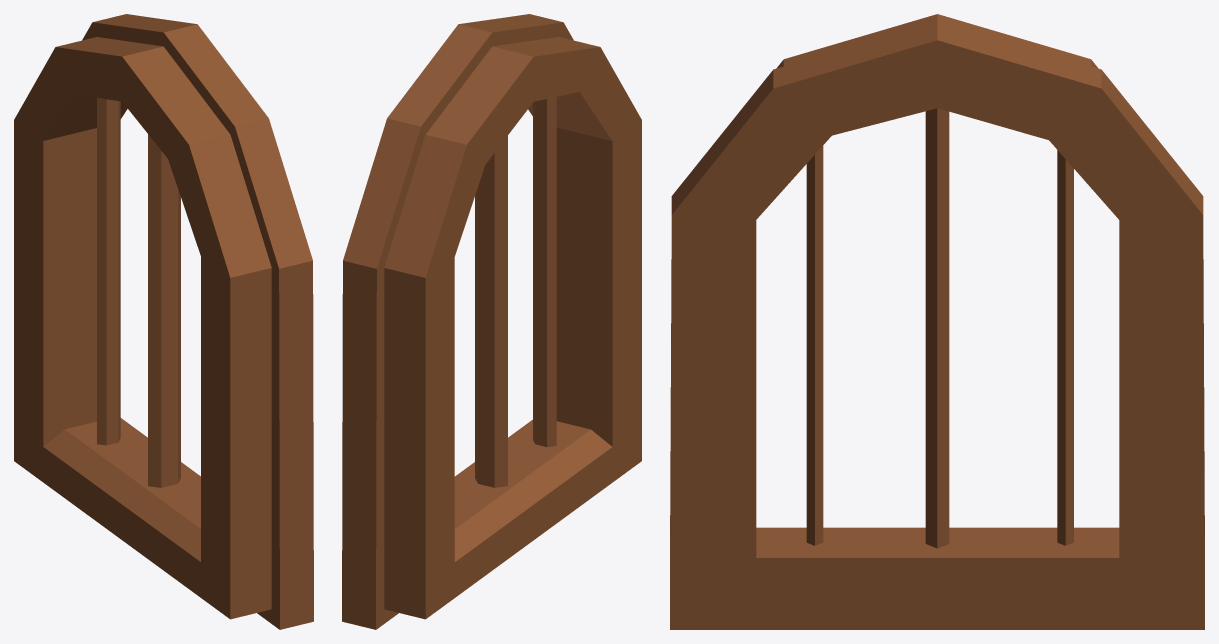
The model's file is Window_Frame.fbx.
3 renders of one model, left to right at view 1: azimuth 30°, elevation 25°; view 2: azimuth 150°, elevation 25°; view 3: azimuth 270°, elevation 25°, orthographic. The views are drawn at different scales.
Parts seen in each view (by area): view 1: Window_Frame; view 2: Window_Frame; view 3: Window_Frame.
Part boxes in pixels (x1,y1,x2,y2): Window_Frame: [14, 14, 313, 629]; Window_Frame: [342, 14, 641, 629]; Window_Frame: [670, 14, 1204, 629].
Size of the model in its own units: 0.1631 by 1.06 by 0.8703.
